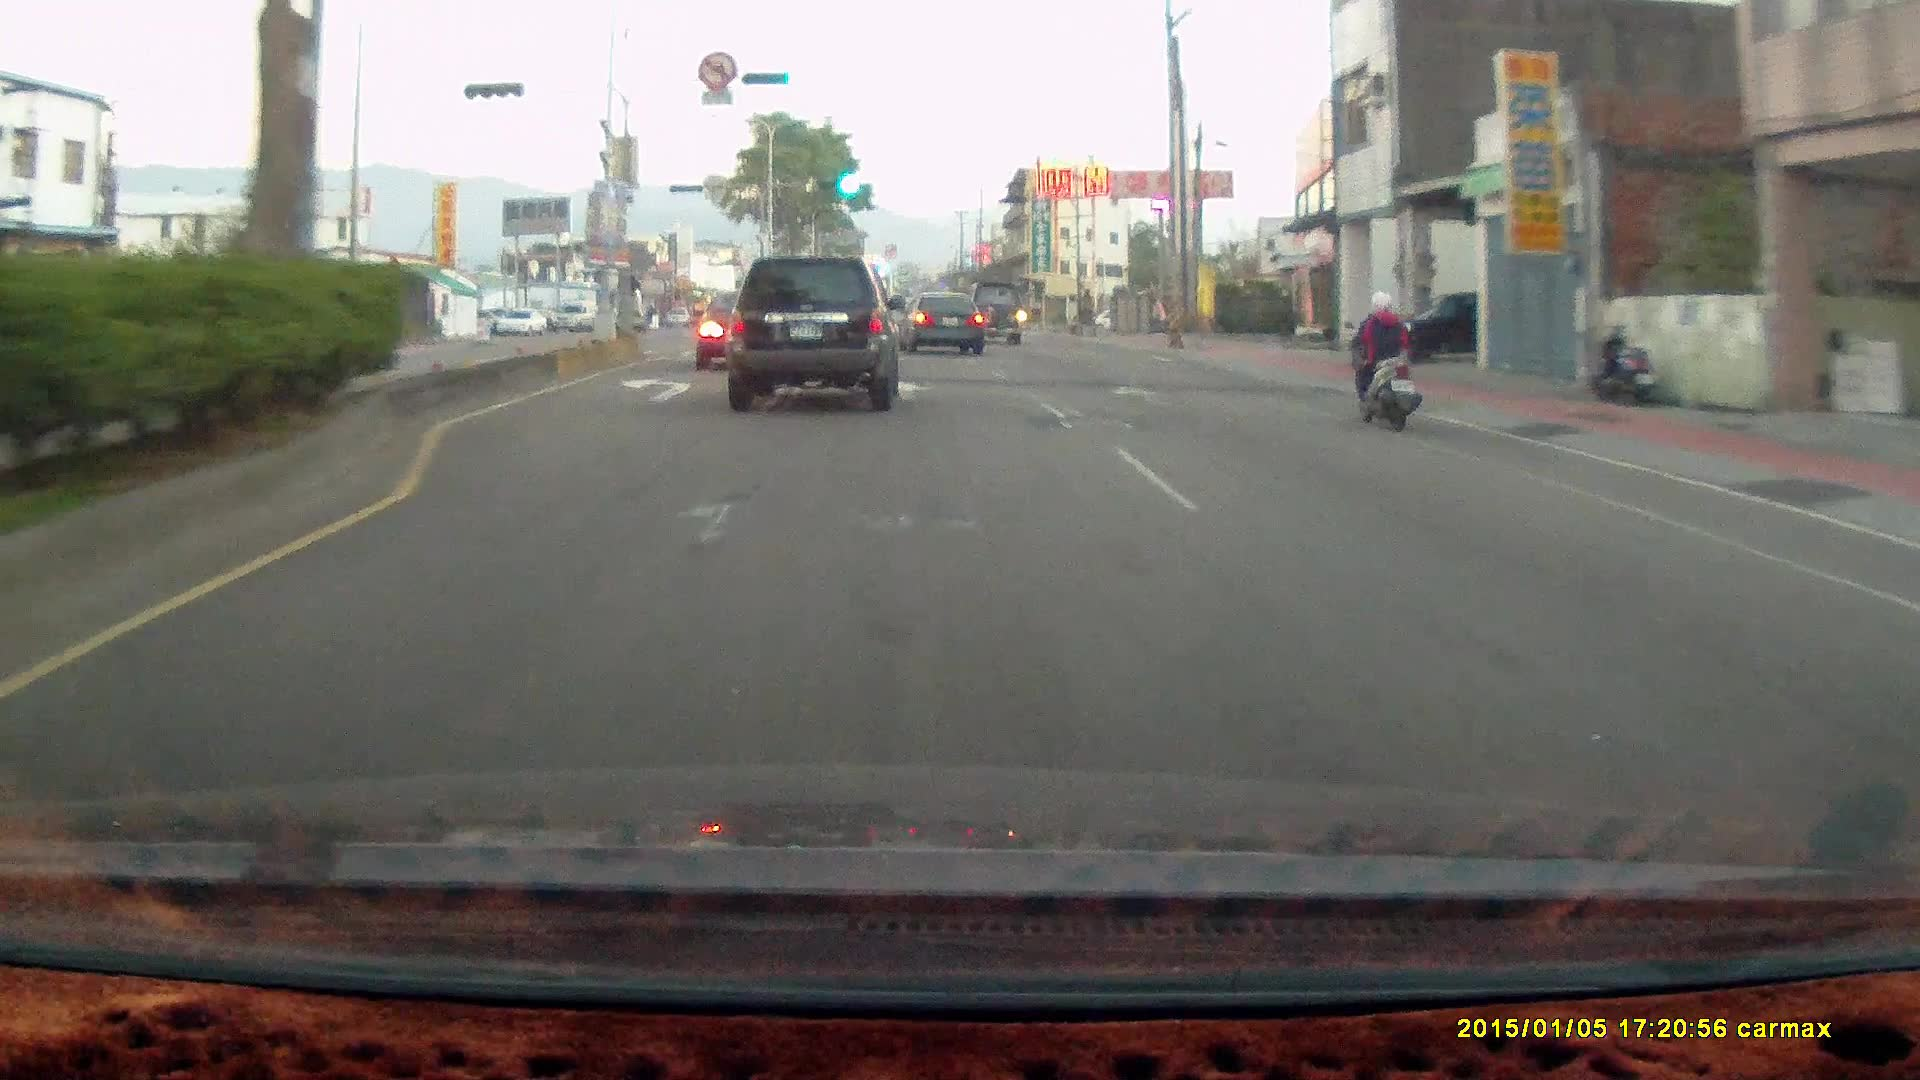rider: (1335, 282, 1435, 440), (1342, 287, 1419, 429)
vehicle: (719, 255, 902, 422), (723, 257, 905, 412), (1360, 290, 1542, 368), (1365, 288, 1491, 368), (695, 291, 803, 376), (692, 291, 798, 371), (904, 294, 987, 361), (900, 292, 984, 355), (959, 284, 1023, 351), (961, 284, 1024, 348), (493, 307, 547, 335), (550, 302, 600, 331)
